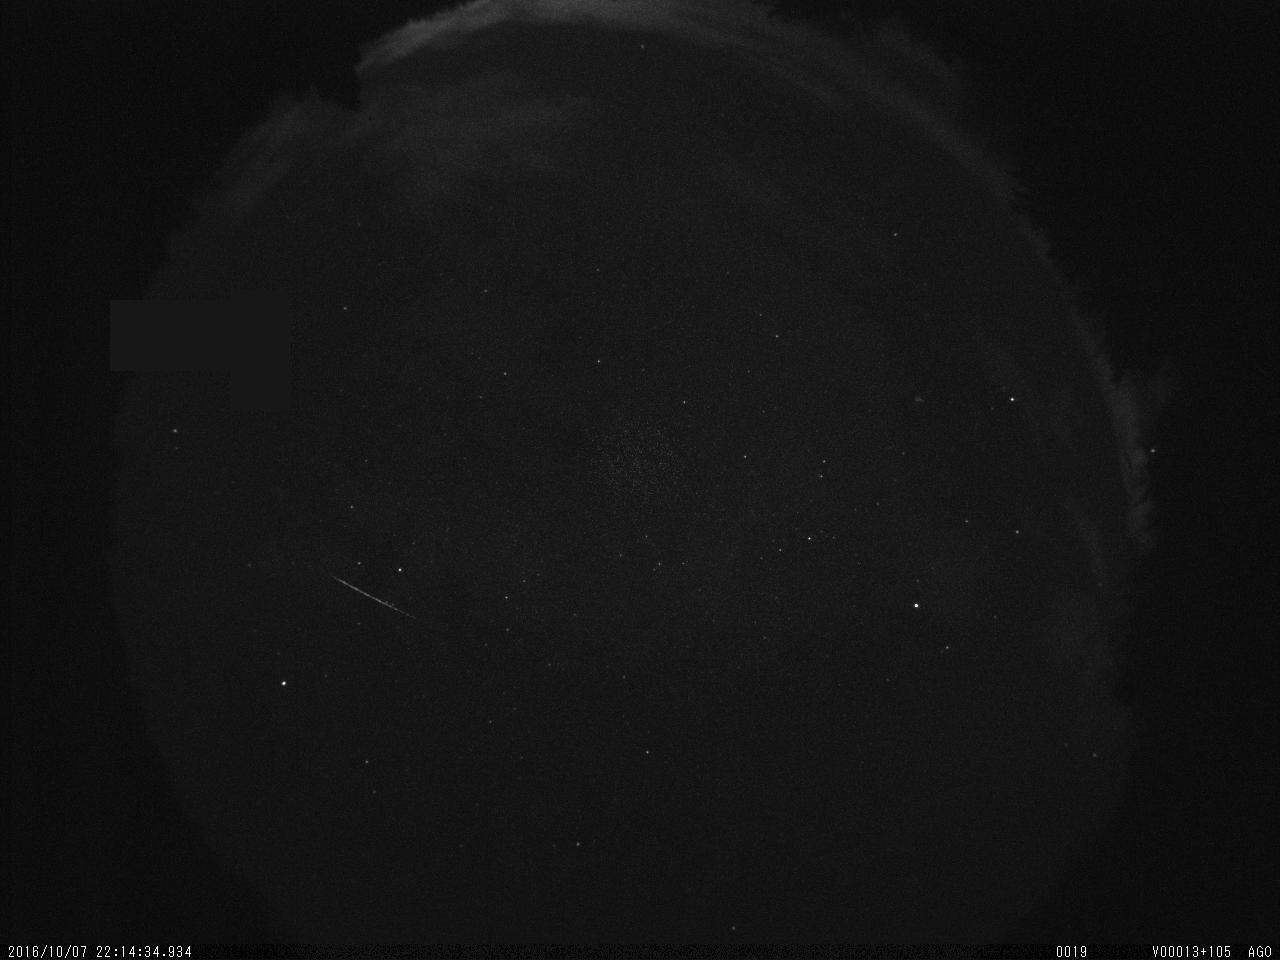meteor: (296, 547, 447, 652)
